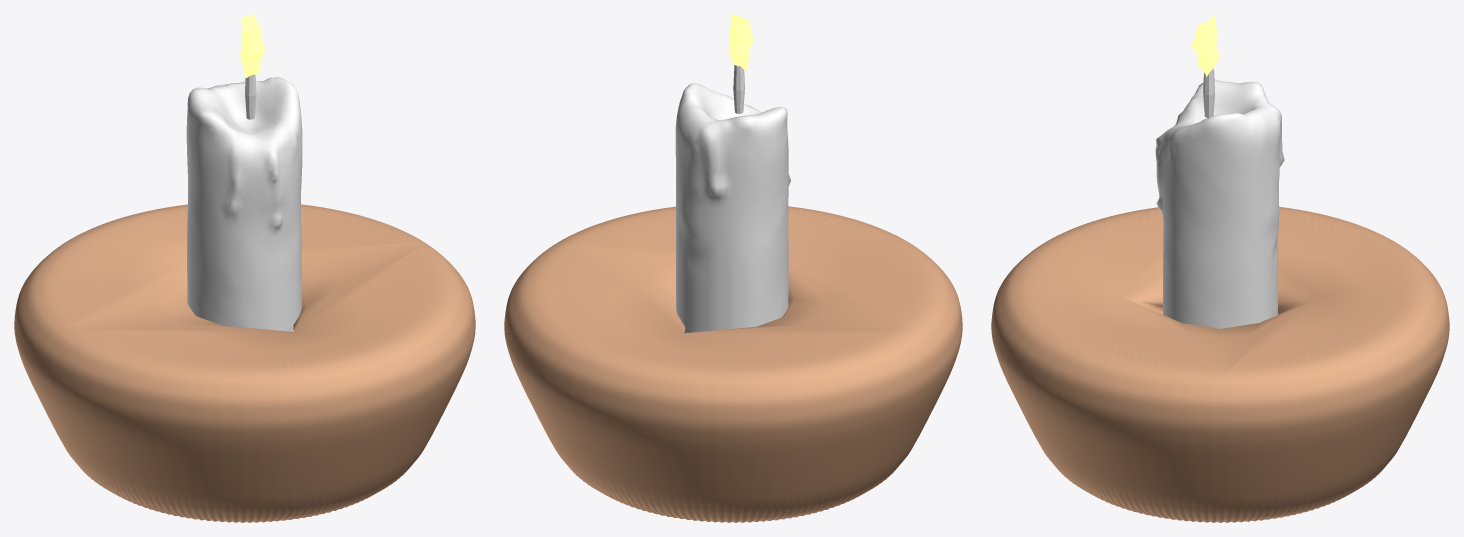
The model's file is kynttila.gltf.
The picture shows the model from 3 angles, left to right: view 1: azimuth 30°, elevation 25°; view 2: azimuth 150°, elevation 25°; view 3: azimuth 270°, elevation 25°; orthographic projection.
Visible parts, largest first — view 1: Cylinder; view 2: Cylinder; view 3: Cylinder.
Part boxes in pixels (bbox=[...]): Cylinder: bbox=[14, 14, 475, 522]; Cylinder: bbox=[504, 14, 962, 522]; Cylinder: bbox=[991, 14, 1449, 522].
Size of the model in its own units: 1.32 by 1.47 by 1.33.
